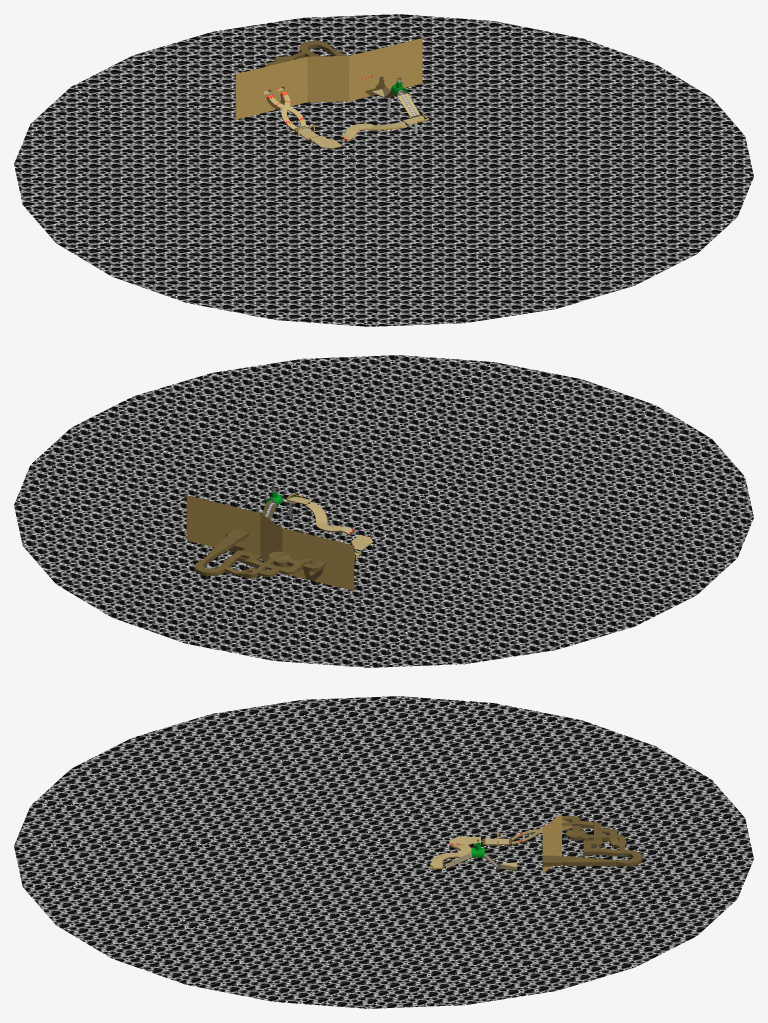
The picture shows the model from 3 angles, top to bottom: view 1: azimuth 30°, elevation 25°; view 2: azimuth 150°, elevation 25°; view 3: azimuth 270°, elevation 25°; orthographic projection.
Parts seen in each view (by area): view 1: Aqua_Temple-SKP--watertexture, Aqua_Temple-SKP--pierre2, Aqua_Temple-SKP--pierre1, Aqua_Temple-SKP--pierre3; view 2: Aqua_Temple-SKP--watertexture, Aqua_Temple-SKP--pierre2, Aqua_Temple-SKP--pierre3, Aqua_Temple-SKP--pierre1; view 3: Aqua_Temple-SKP--watertexture, Aqua_Temple-SKP--pierre3, Aqua_Temple-SKP--pierre1, Aqua_Temple-SKP--pierre2.
Boxes of the visible parts, <box> form: Aqua_Temple-SKP--watertexture: <box>14,14,753,326</box>; Aqua_Temple-SKP--pierre2: <box>235,38,429,141</box>; Aqua_Temple-SKP--pierre1: <box>264,88,423,148</box>; Aqua_Temple-SKP--pierre3: <box>266,41,426,148</box>; Aqua_Temple-SKP--watertexture: <box>14,355,753,667</box>; Aqua_Temple-SKP--pierre2: <box>186,493,361,590</box>; Aqua_Temple-SKP--pierre3: <box>194,487,373,581</box>; Aqua_Temple-SKP--pierre1: <box>283,497,373,557</box>; Aqua_Temple-SKP--watertexture: <box>14,696,753,1008</box>; Aqua_Temple-SKP--pierre3: <box>431,816,642,870</box>; Aqua_Temple-SKP--pierre1: <box>431,824,547,868</box>; Aqua_Temple-SKP--pierre2: <box>430,813,572,873</box>.
Bounding box in the file's own units: 423727 × 40170 × 423727.
14 materials, 14 textured.
